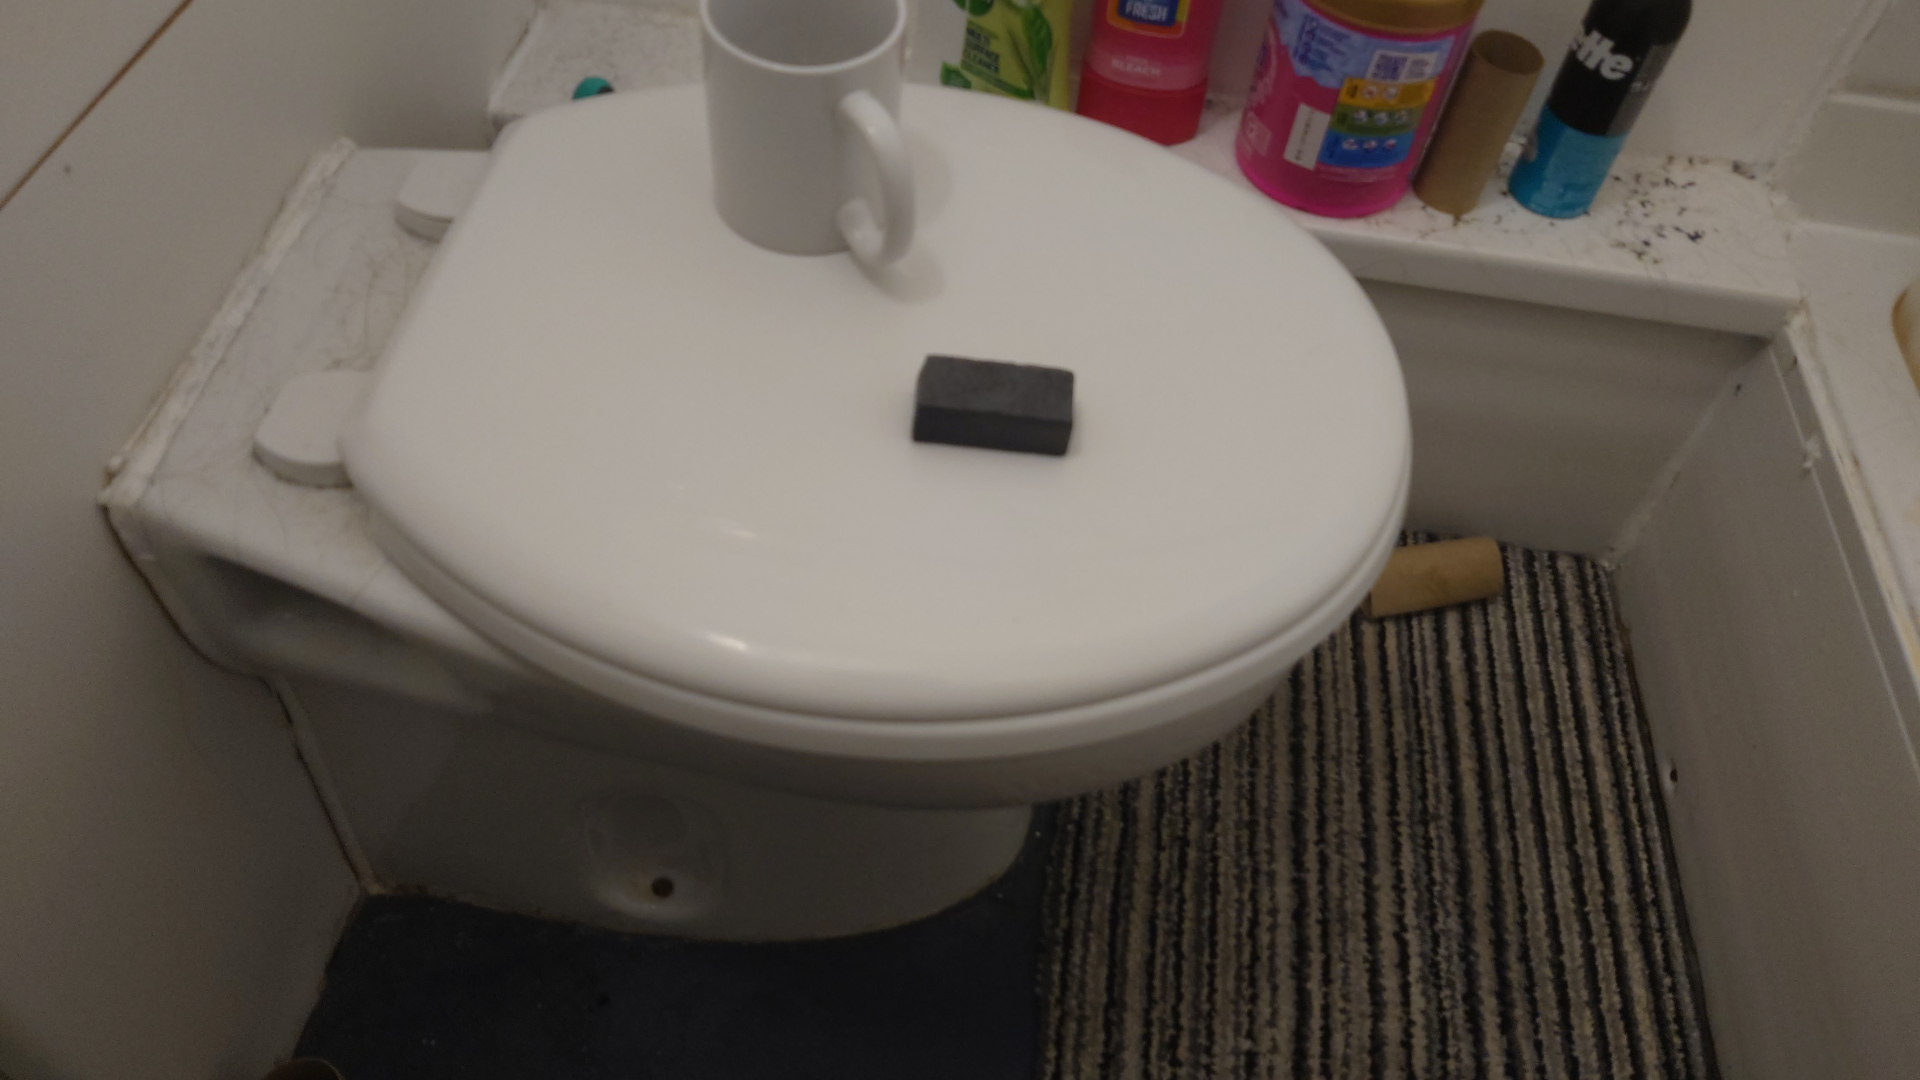cup: (700, 1, 927, 274)
target: (903, 352, 1079, 460)
